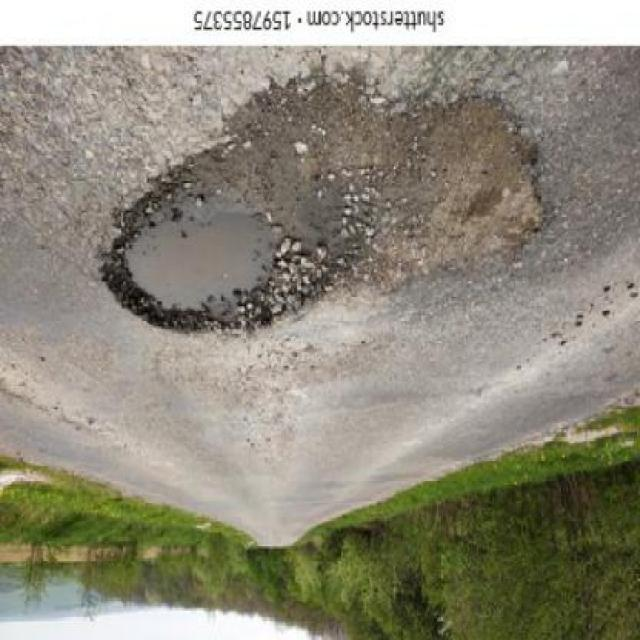pothole: (82, 70, 548, 346)
